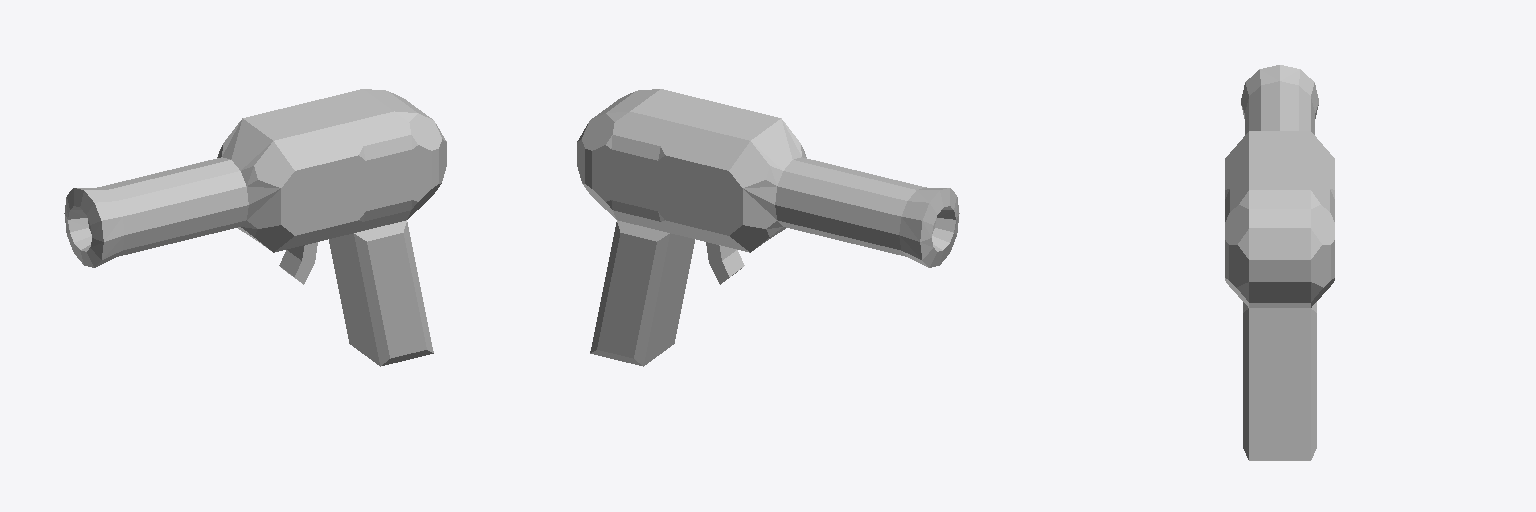
The model's file is gun.obj.
The picture shows the model from 3 angles: view 1: azimuth 30°, elevation 25°; view 2: azimuth 150°, elevation 25°; view 3: azimuth 270°, elevation 25°; orthographic projection.
Parts seen in each view (by area): view 1: Cube; view 2: Cube; view 3: Cube.
Part boxes in pixels (bbox=[...]): Cube: bbox=[64, 89, 446, 366]; Cube: bbox=[577, 89, 959, 366]; Cube: bbox=[1225, 65, 1334, 460].
Bounding box in the file's own units: 0.263 × 0.18 × 0.0716.